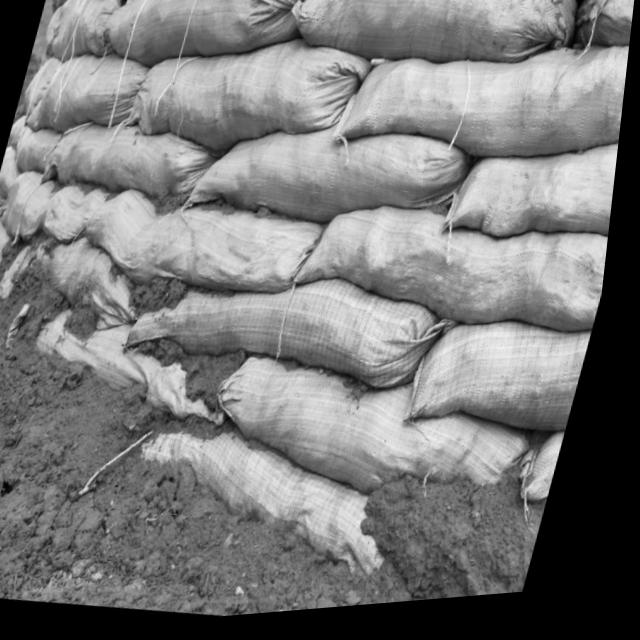sack: (203, 338, 560, 532), (122, 406, 429, 603), (122, 246, 460, 420), (330, 8, 636, 197), (290, 187, 620, 362), (184, 103, 482, 255), (119, 16, 382, 182), (74, 171, 340, 318), (24, 294, 264, 442), (280, 0, 586, 98), (411, 310, 604, 454), (445, 123, 626, 269), (4, 101, 223, 216), (96, 0, 317, 90), (24, 228, 163, 342), (17, 43, 151, 147), (0, 162, 114, 254), (40, 0, 126, 71), (571, 0, 637, 72)
